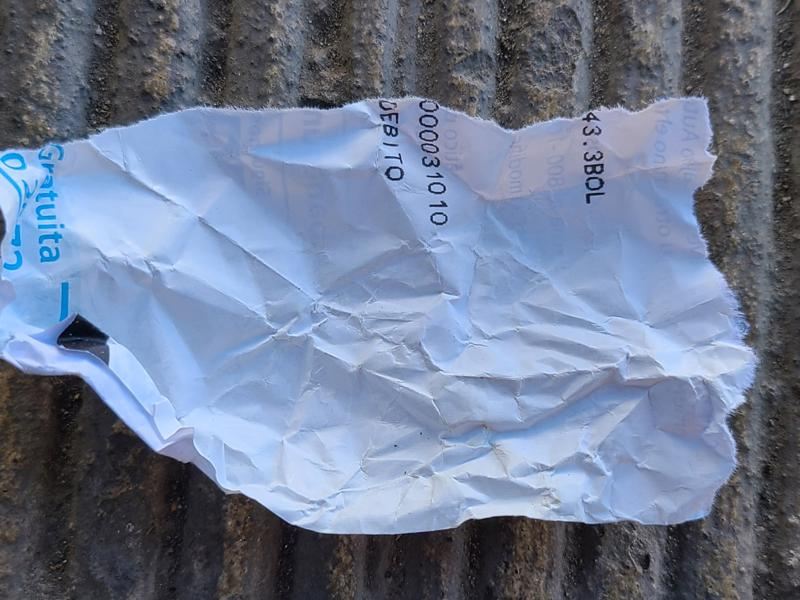papel: (0, 95, 759, 538)
